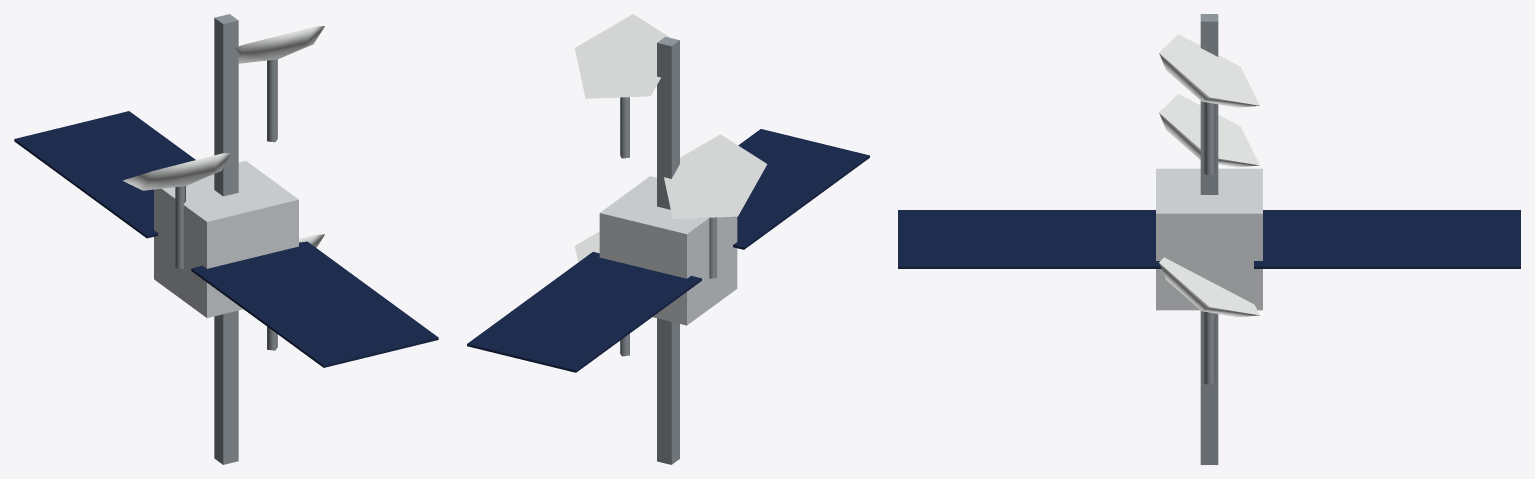
Rendered from space_orbital_relay_t1_lod2.glb.
3 views of the same model, side by side, from view 1: azimuth 30°, elevation 25°; view 2: azimuth 150°, elevation 25°; view 3: azimuth 270°, elevation 25° (orthographic). The views are drawn at different scales.
Visible parts, largest first — view 1: body, solar_0, solar_1, antenna_1, antenna_2; view 2: body, solar_1, solar_0, antenna_1, antenna_2, antenna_0; view 3: body, solar_1, solar_0, antenna_2, antenna_0, antenna_1.
Part boxes in pixels (x1,y1,x2,y2): body: (154, 14, 298, 464); solar_0: (191, 241, 438, 367); solar_1: (14, 111, 195, 238); antenna_1: (122, 152, 230, 268); antenna_2: (234, 26, 324, 142); body: (599, 36, 737, 464); solar_1: (467, 252, 701, 372); solar_0: (733, 129, 869, 249); antenna_1: (664, 134, 767, 278); antenna_2: (574, 14, 670, 158); antenna_0: (574, 231, 629, 356); body: (1156, 14, 1262, 464); solar_1: (1254, 210, 1520, 268); solar_0: (898, 210, 1161, 268); antenna_2: (1159, 34, 1259, 175); antenna_0: (1159, 257, 1259, 385); antenna_1: (1159, 94, 1259, 167).
Size of the model in its own units: 4.9 by 11 by 14.
